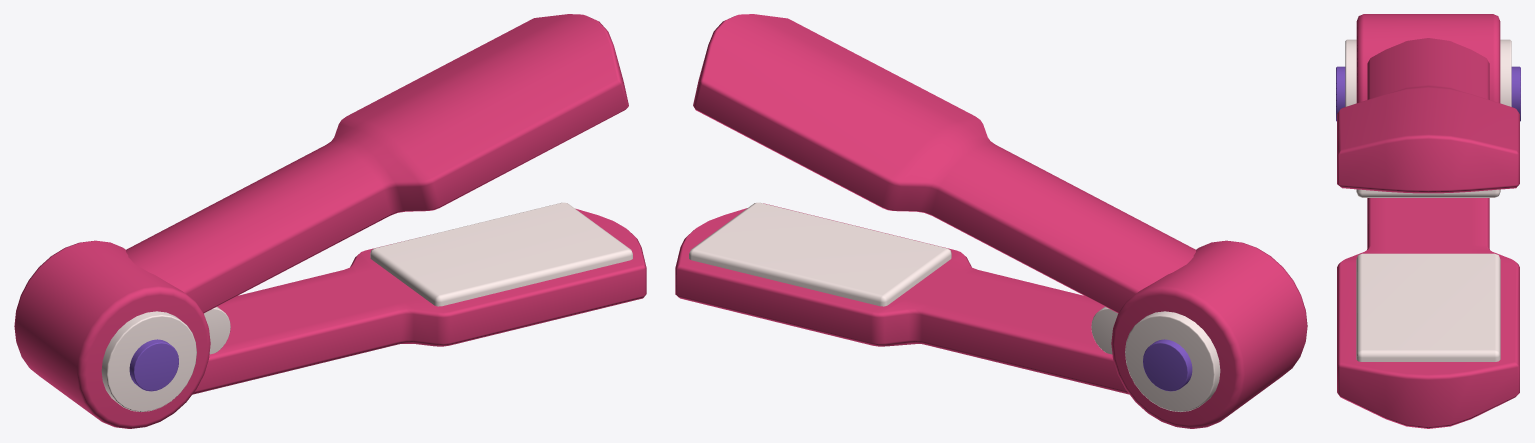
The model's file is Isl_7_Hair_Straightener_1.fbx.
The picture shows the model from 3 angles, left to right: view 1: azimuth 30°, elevation 25°; view 2: azimuth 150°, elevation 25°; view 3: azimuth 270°, elevation 25°; orthographic projection. The views are drawn at different scales.
Parts seen in each view (by area): view 1: Isl_7_Hair_Straightener_1; view 2: Isl_7_Hair_Straightener_1; view 3: Isl_7_Hair_Straightener_1.
Part boxes in pixels (box(x1,y1,x2,y2)): Isl_7_Hair_Straightener_1: box(14, 14, 646, 428); Isl_7_Hair_Straightener_1: box(675, 14, 1307, 428); Isl_7_Hair_Straightener_1: box(1336, 14, 1520, 428).
Size of the model in its own units: 179 by 78.73 by 47.19.
